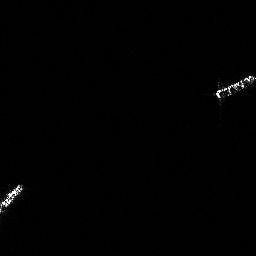ship: (213, 72, 256, 101), (1, 181, 26, 218)
